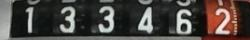digits: (97, 5, 115, 31), (58, 6, 76, 31), (137, 6, 153, 32), (176, 8, 192, 34), (214, 8, 230, 33), (24, 6, 34, 32)
